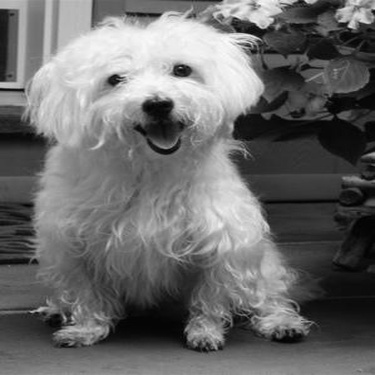dog: (10, 11, 323, 351)
